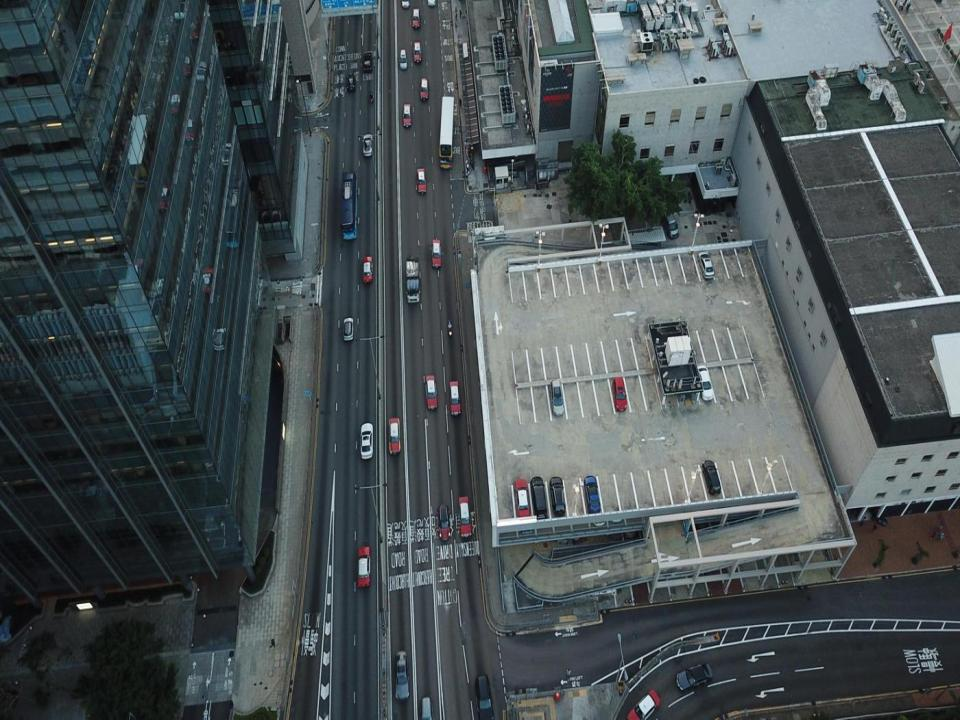bus: (341, 171, 357, 239), (440, 96, 453, 168)
car: (676, 662, 712, 691), (626, 689, 660, 719), (476, 675, 494, 719), (531, 477, 548, 520), (549, 476, 566, 516), (396, 650, 409, 700), (702, 460, 721, 494), (696, 365, 713, 401), (584, 475, 600, 513), (458, 495, 471, 537), (515, 479, 529, 516), (550, 379, 564, 416), (612, 376, 627, 410), (358, 546, 370, 588), (437, 503, 450, 541), (697, 250, 714, 279), (360, 422, 373, 459), (388, 418, 401, 454), (425, 375, 438, 409), (449, 380, 461, 415), (419, 695, 433, 719), (556, 519, 568, 545), (431, 236, 441, 267), (573, 518, 586, 541), (625, 512, 636, 539), (520, 510, 532, 534), (416, 168, 427, 193), (610, 498, 621, 523), (362, 256, 372, 283), (594, 502, 605, 526), (402, 103, 412, 127), (363, 134, 372, 157), (343, 318, 352, 340), (420, 76, 428, 100), (398, 50, 408, 68), (364, 52, 373, 72), (412, 9, 420, 28), (414, 41, 421, 62), (348, 74, 355, 90), (402, 0, 410, 7), (427, 0, 436, 5)
truck: (407, 255, 419, 302)
van: (662, 204, 680, 238)
